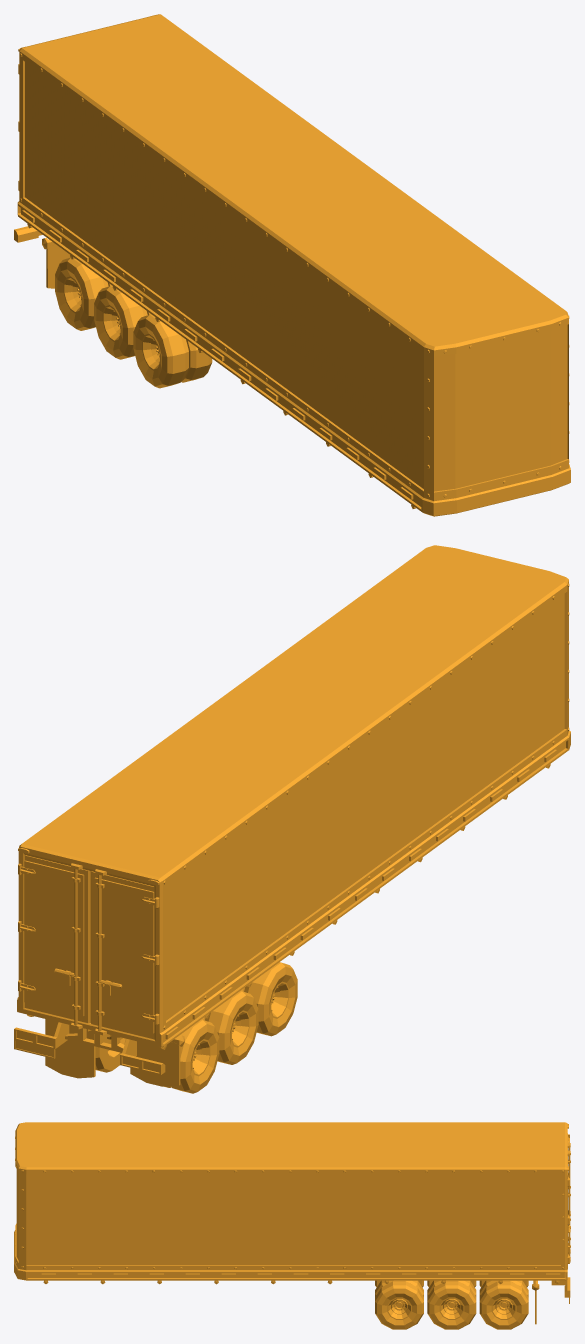
The model's file is SM_Car_Truck_Trailer_Modern.fbx.
The picture shows the model from 3 angles, top to bottom: view 1: azimuth 30°, elevation 25°; view 2: azimuth 150°, elevation 25°; view 3: azimuth 270°, elevation 25°; orthographic projection. The views are drawn at different scales.
Parts seen in each view (by area): view 1: truck-trailer-modern-base, truck-trailer-modern-wheel-rfr, truck-trailer-modern-wheel-rmi, truck-trailer-modern-wheel-rba; view 2: truck-trailer-modern-base, truck-trailer-modern-door-left, truck-trailer-modern-door-right, truck-trailer-modern-wheel-rfr, truck-trailer-modern-wheel-rmi, truck-trailer-modern-wheel-rba; view 3: truck-trailer-modern-base, truck-trailer-modern-wheel-lmi, truck-trailer-modern-wheel-lba, truck-trailer-modern-wheel_lfr, truck-trailer-modern-door-left.
Boxes of the visible parts, x1,y1,x2,y2 form: truck-trailer-modern-base: (14,14,570,516); truck-trailer-modern-wheel-rfr: (133,314,212,388); truck-trailer-modern-wheel-rmi: (94,285,150,359); truck-trailer-modern-wheel-rba: (55,257,111,330); truck-trailer-modern-base: (14,545,570,1086); truck-trailer-modern-door-left: (20,855,90,1025); truck-trailer-modern-door-right: (90,871,154,1039); truck-trailer-modern-wheel-rfr: (240,962,297,1036); truck-trailer-modern-wheel-rmi: (201,991,258,1064); truck-trailer-modern-wheel-rba: (164,1019,219,1093); truck-trailer-modern-base: (14,1122,570,1324); truck-trailer-modern-wheel-lmi: (427,1280,476,1329); truck-trailer-modern-wheel-lba: (479,1280,528,1329); truck-trailer-modern-wheel_lfr: (375,1280,423,1329); truck-trailer-modern-door-left: (567,1155,570,1268).
Size of the model in its own units: 2.49 by 4 by 12.23.
